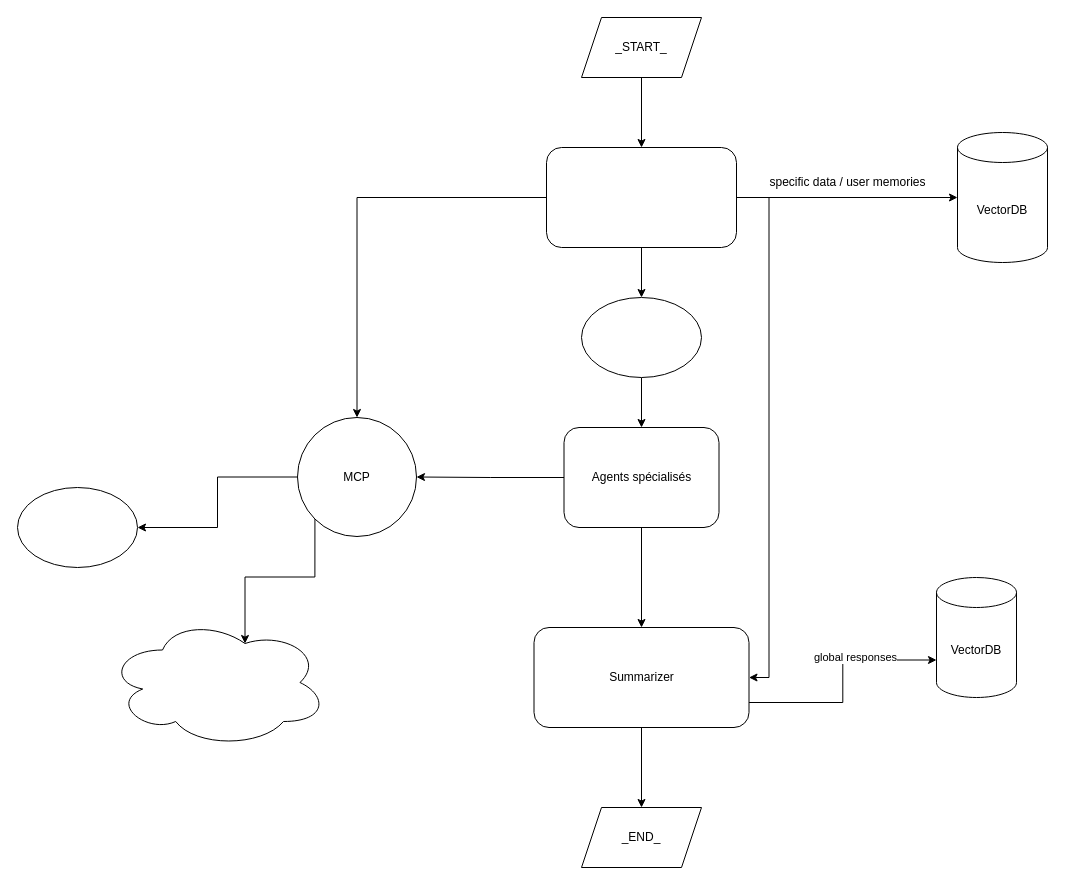
Some shapes in this 1065 by 885 pixel diagram are drawn without their labels. Each missing label, with the centre of its shape:
"Cloud / internet" goes at point 217,682.
"LLM / Orchestrator" goes at point 641,197.
"Use Pre-made prompts" goes at point 641,337.
"VMs / shell" goes at point 77,527.
